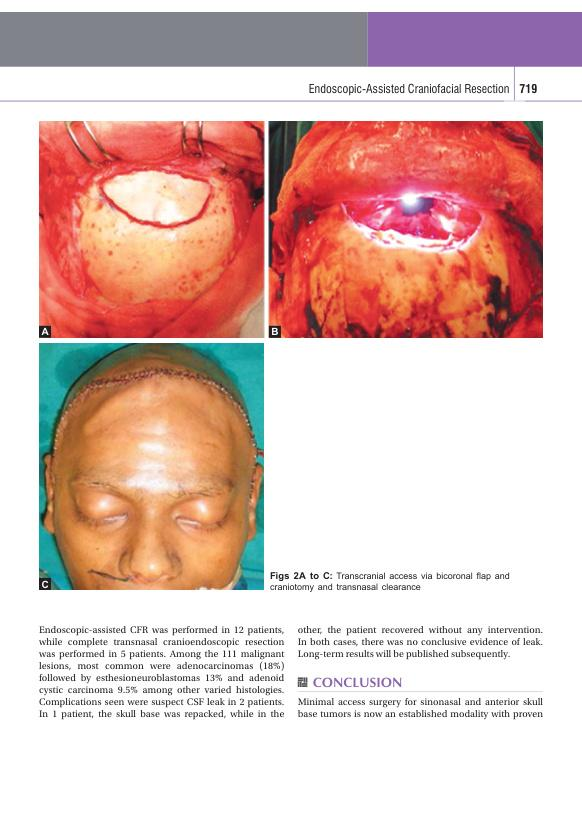caption: (269, 570, 510, 593), (40, 327, 50, 336), (41, 579, 50, 589), (271, 326, 279, 337)
header: (307, 82, 511, 97)
image: (268, 120, 544, 338), (38, 341, 265, 591), (39, 120, 265, 339)
section-heading: (311, 676, 403, 689)
text: (37, 624, 285, 721), (296, 624, 545, 661), (296, 696, 545, 720)
